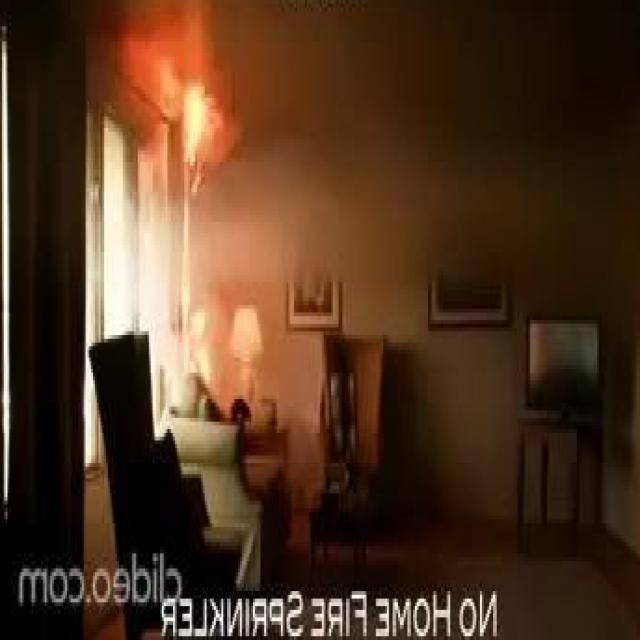smoke: (166, 60, 227, 177)
